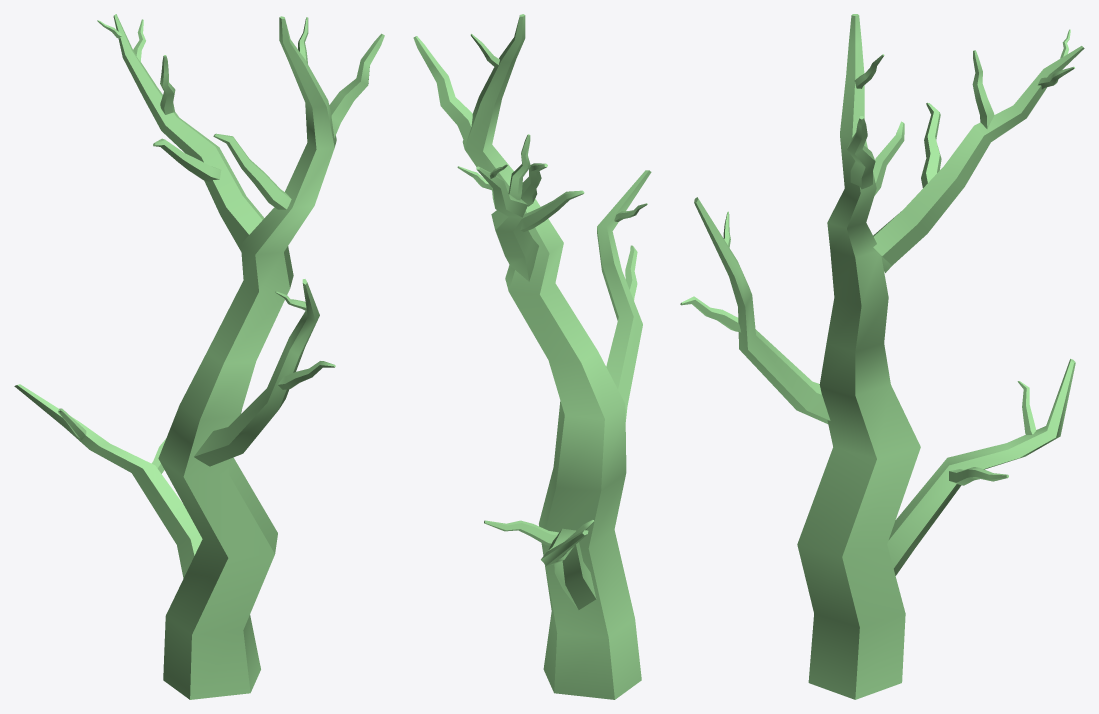
Rendered from TreeVariation1.fbx.
3 views of the same model, side by side, from view 1: azimuth 30°, elevation 25°; view 2: azimuth 150°, elevation 25°; view 3: azimuth 270°, elevation 25° (orthographic). The views are drawn at different scales.
Parts seen in each view (by area): view 1: pCylinder77, pCylinder78, pCylinder89, pCylinder86, pCylinder84, pCylinder79, pCylinder85, pCylinder87, pCylinder81; view 2: pCylinder77, pCylinder89, pCylinder78, pCylinder86, pCylinder79, pCylinder85, pCylinder88, pCylinder81, pCylinder84, pCylinder87; view 3: pCylinder77, pCylinder78, pCylinder86, pCylinder89, pCylinder79, pCylinder85, pCylinder81, pCylinder84, pCylinder87, pCylinder88.
Part boxes in pixels (<box>): pCylinder77: <box>158,16,336,699</box>; pCylinder78: <box>113,14,264,251</box>; pCylinder89: <box>194,279,319,466</box>; pCylinder86: <box>14,384,202,578</box>; pCylinder84: <box>213,133,291,209</box>; pCylinder79: <box>329,33,384,137</box>; pCylinder85: <box>153,138,221,182</box>; pCylinder87: <box>278,361,335,389</box>; pCylinder81: <box>160,55,175,114</box>; pCylinder77: <box>462,14,641,699</box>; pCylinder89: <box>597,170,651,421</box>; pCylinder78: <box>476,166,538,281</box>; pCylinder86: <box>541,528,596,609</box>; pCylinder79: <box>413,36,472,143</box>; pCylinder85: <box>520,190,584,231</box>; pCylinder88: <box>484,520,558,545</box>; pCylinder81: <box>508,134,530,200</box>; pCylinder84: <box>521,163,547,206</box>; pCylinder87: <box>625,245,637,300</box>; pCylinder77: <box>797,14,920,699</box>; pCylinder78: <box>873,46,1084,272</box>; pCylinder86: <box>887,358,1075,575</box>; pCylinder89: <box>694,197,830,423</box>; pCylinder79: <box>847,116,875,189</box>; pCylinder85: <box>921,102,941,187</box>; pCylinder81: <box>972,50,994,128</box>; pCylinder84: <box>873,121,904,195</box>; pCylinder87: <box>680,296,740,332</box>; pCylinder88: <box>949,467,1008,485</box>.
Bounding box in the file's own units: 1.94 × 4.4 × 2.32.
